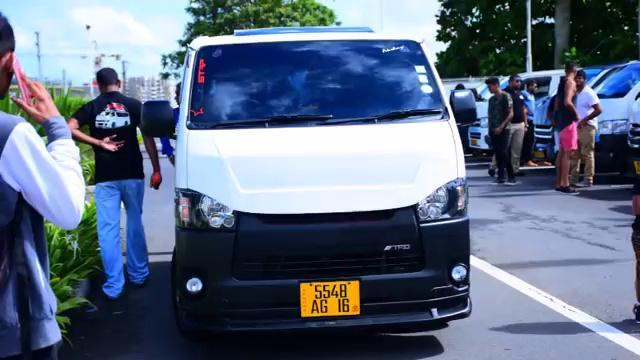Van: (169, 29, 476, 334)
